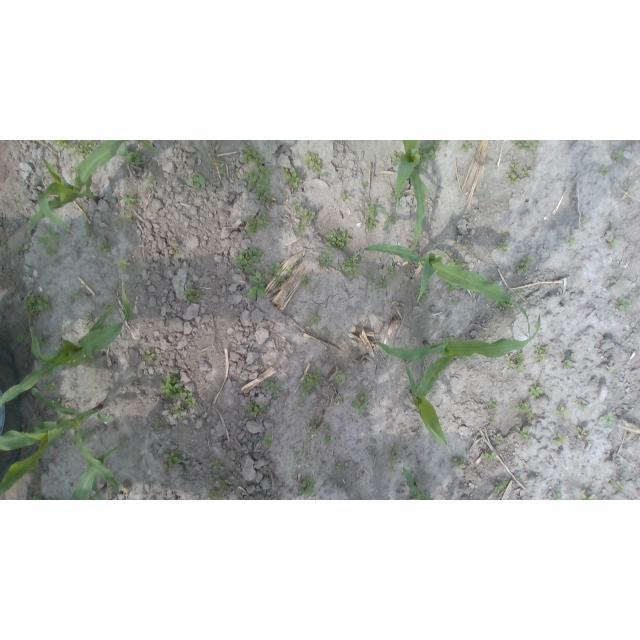Maize: (360, 242, 530, 336), (0, 283, 132, 404), (22, 141, 158, 244), (0, 387, 118, 497), (373, 312, 542, 364), (406, 356, 452, 449), (394, 140, 430, 248), (73, 443, 130, 500), (400, 465, 433, 500)
Weeds: (245, 165, 274, 203), (415, 141, 441, 174), (243, 211, 272, 238), (37, 224, 61, 256), (159, 373, 188, 399), (336, 251, 363, 278), (234, 248, 263, 273), (22, 293, 52, 317), (304, 152, 329, 179), (324, 230, 353, 252), (300, 371, 321, 398), (248, 271, 267, 299), (118, 145, 142, 166), (511, 140, 540, 157), (72, 140, 97, 158), (364, 202, 379, 231), (292, 202, 316, 220), (163, 452, 183, 473), (282, 168, 302, 189), (208, 153, 227, 175), (352, 391, 370, 414), (242, 146, 265, 164), (515, 255, 533, 276), (300, 476, 317, 498), (186, 173, 209, 189), (381, 208, 397, 231), (184, 284, 203, 303), (507, 353, 526, 372), (316, 250, 335, 268), (532, 345, 549, 365), (495, 299, 516, 315), (247, 400, 265, 418), (307, 420, 322, 439), (183, 388, 197, 408), (83, 312, 99, 329), (266, 262, 282, 279), (504, 171, 521, 187), (14, 323, 27, 343), (617, 298, 633, 313), (416, 285, 428, 305), (388, 444, 400, 464), (529, 384, 544, 400), (496, 241, 511, 256), (265, 378, 280, 392), (98, 239, 112, 254), (561, 355, 575, 369), (123, 194, 137, 208), (449, 256, 464, 269), (516, 400, 532, 412), (386, 263, 397, 280), (556, 405, 569, 419), (38, 333, 51, 347), (143, 349, 156, 363), (516, 426, 529, 440), (496, 478, 509, 492), (551, 435, 569, 445), (51, 140, 69, 150), (296, 222, 308, 237), (375, 278, 390, 290), (116, 260, 132, 271), (577, 427, 590, 440), (333, 371, 345, 385), (173, 404, 184, 419), (219, 480, 231, 493), (101, 303, 114, 315), (392, 152, 404, 165), (446, 282, 459, 294), (521, 165, 532, 179), (208, 490, 223, 500), (482, 451, 497, 461), (84, 220, 93, 236), (44, 382, 57, 393), (453, 458, 466, 469), (604, 411, 614, 425), (614, 149, 624, 163), (80, 428, 89, 443), (274, 277, 286, 288), (565, 236, 577, 247), (341, 191, 352, 202), (462, 140, 472, 152), (448, 297, 460, 307), (603, 365, 613, 376), (264, 435, 273, 447), (607, 238, 617, 248), (33, 489, 42, 500), (577, 402, 587, 411), (488, 399, 497, 409), (312, 315, 321, 325), (17, 243, 26, 253), (553, 490, 563, 499), (51, 396, 62, 404), (581, 493, 593, 500), (212, 460, 221, 469), (300, 276, 309, 285), (511, 163, 520, 172), (600, 166, 608, 176), (127, 214, 135, 224), (323, 436, 333, 444), (489, 417, 496, 428), (460, 264, 469, 272), (156, 416, 165, 424), (286, 268, 294, 277), (580, 216, 589, 224), (525, 412, 533, 420), (617, 484, 626, 491), (337, 464, 344, 473), (325, 424, 332, 433), (173, 247, 180, 256), (391, 192, 397, 201), (112, 219, 120, 225), (71, 165, 77, 173), (388, 466, 396, 472), (73, 292, 79, 299), (299, 400, 305, 407), (148, 176, 152, 185), (273, 497, 284, 500), (609, 480, 615, 485), (2, 240, 7, 245), (516, 292, 521, 297), (364, 181, 368, 187), (400, 191, 404, 197), (443, 140, 449, 144), (496, 435, 500, 441)
